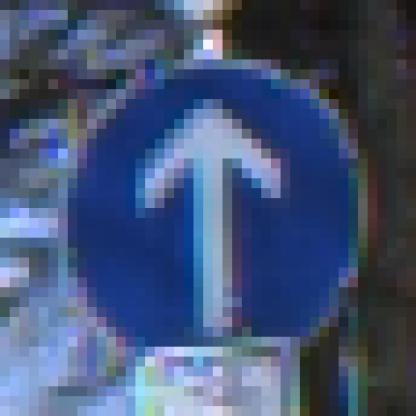AheadOnly: (49, 51, 369, 368)
